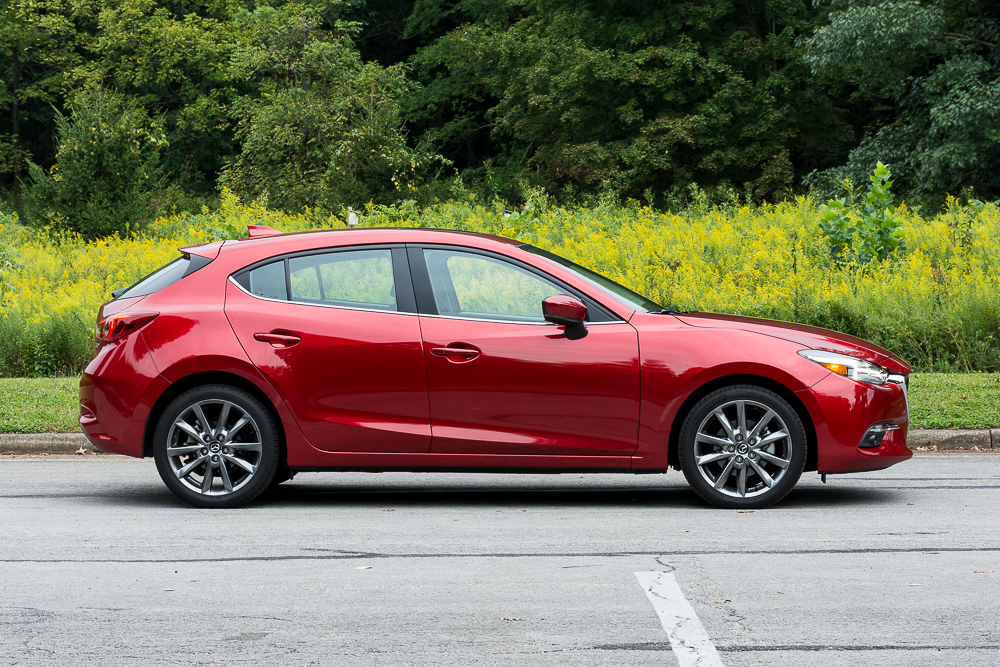Mazda3 Hatchback: (77, 223, 917, 510)
